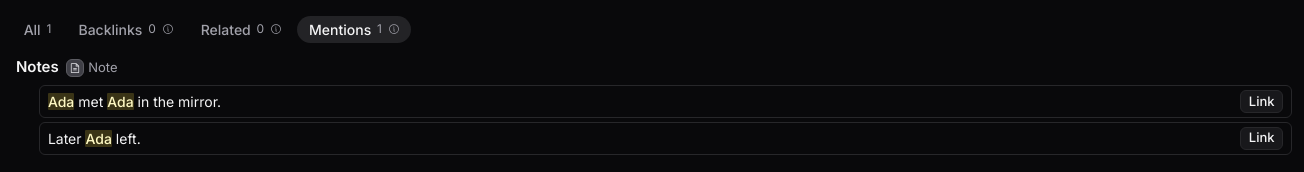
Test: MentionsTab: a mention reads as text and a line is listed once (M33) › Link on that row links both names, the last one first, each on the version the one before answered
Check: the text "Notes" is shown, box x1=16 y1=56 x2=59 y2=79
Click the 1st button "Link" at coordinates (1262, 101), box x1=1240 y1=90 x2=1283 y2=113
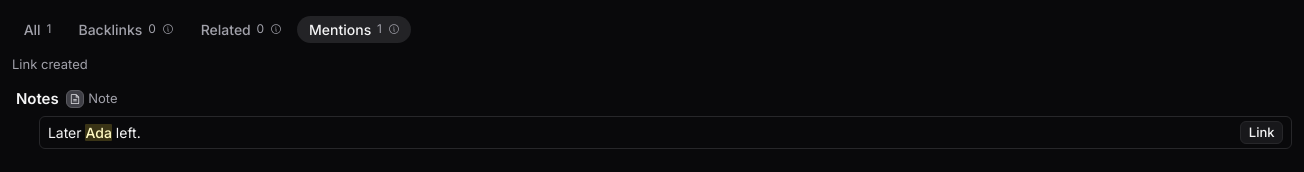
Check: the element with class "search-highlights" reads "Later Ada left.", box x1=48 y1=124 x2=141 y2=141
Check: the message reads "Link created", box x1=12 y1=56 x2=88 y2=72
